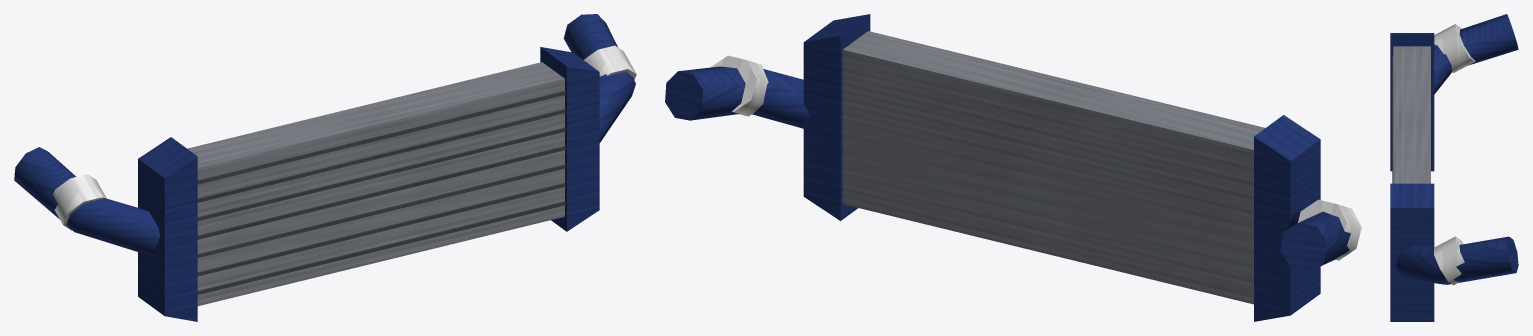
Rendered from intercooler_n2.glb.
3 renders of one model, left to right at view 1: azimuth 30°, elevation 25°; view 2: azimuth 150°, elevation 25°; view 3: azimuth 270°, elevation 25°, orthographic. The views are drawn at different scales.
Parts seen in each view (by area): view 1: intercooler_n2; view 2: intercooler_n2; view 3: intercooler_n2.
Boxes of the visible parts, left/top/right/bottom form: intercooler_n2: left=14, top=14, right=636, bottom=321; intercooler_n2: left=665, top=14, right=1361, bottom=321; intercooler_n2: left=1390, top=14, right=1518, bottom=321.
Bounding box in the file's own units: 0.8963 × 0.24 × 0.2043.
Materials: 2 (2 with a texture image).
